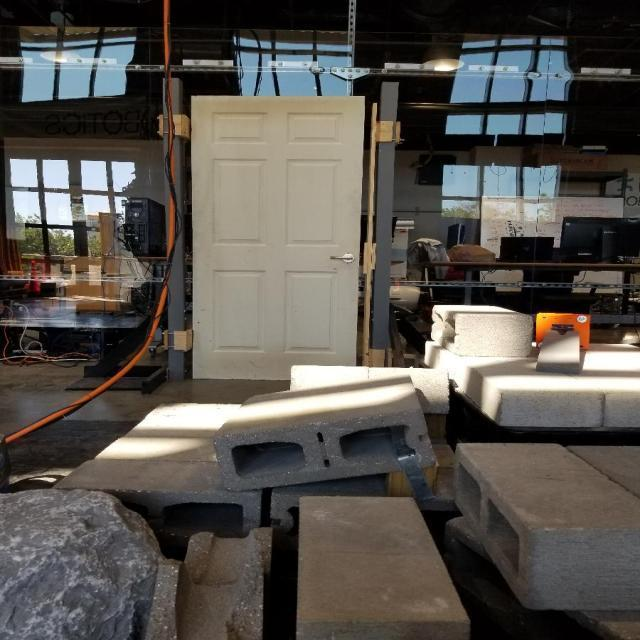door: (187, 92, 366, 386), (328, 252, 361, 269)
